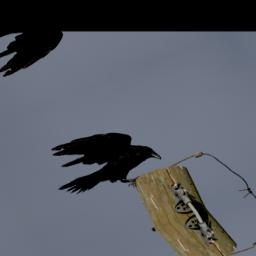Crow: (33, 113, 172, 212)
